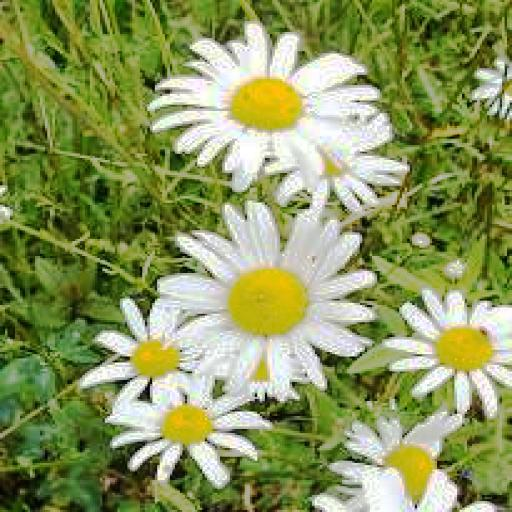daisy: (170, 34, 360, 169), (185, 220, 362, 358), (112, 388, 262, 476), (399, 298, 512, 401), (345, 418, 467, 512), (90, 309, 192, 386), (472, 60, 512, 117)
